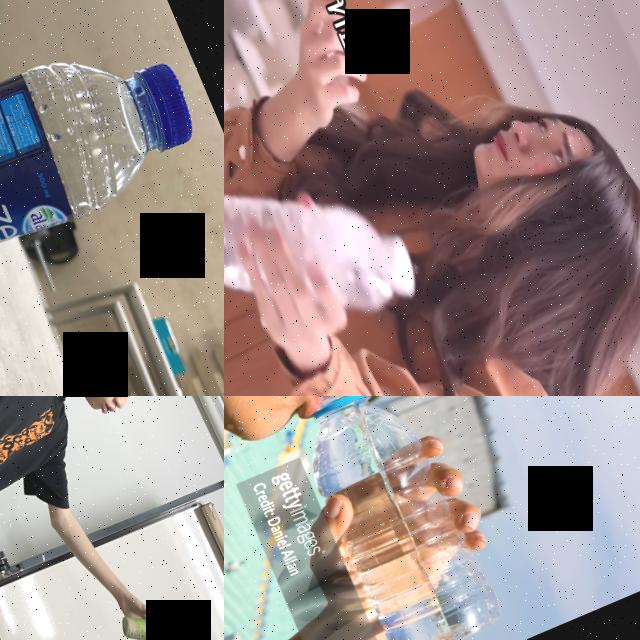bottle: (0, 11, 217, 331), (277, 396, 511, 640), (224, 128, 427, 370)
can: (115, 600, 177, 640)
